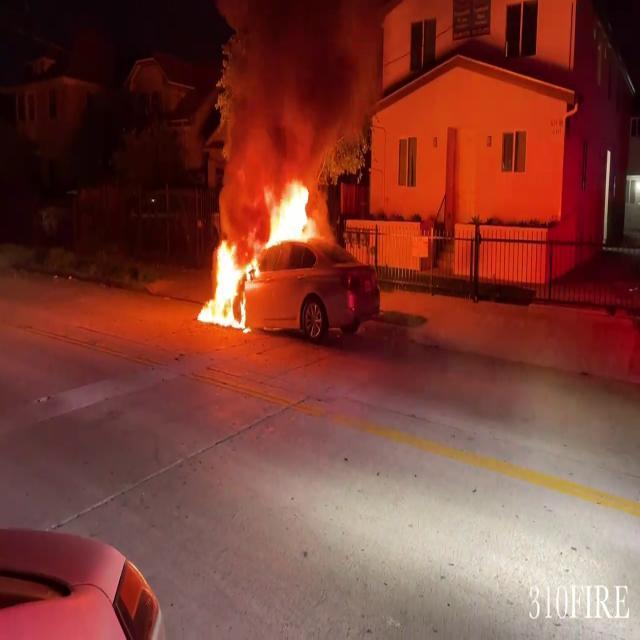Fire: (194, 232, 258, 332), (262, 172, 330, 255)
Smoke: (216, 1, 407, 170)
